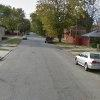Car: (68, 45, 100, 78)
